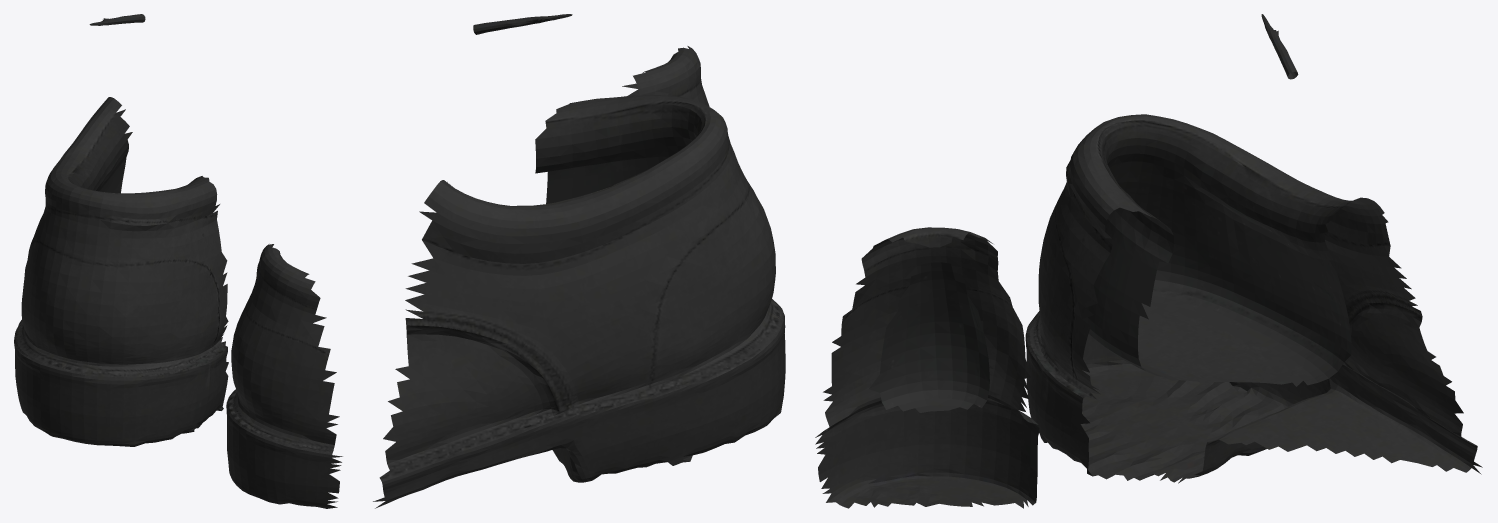
Rendered from leather_shoes_low_cut.glb.
3 renders of one model, left to right at view 1: azimuth 30°, elevation 25°; view 2: azimuth 150°, elevation 25°; view 3: azimuth 270°, elevation 25°, orthographic. The views are drawn at different scales.
Parts seen in each view (by area): view 1: world; view 2: world; view 3: world.
Part boxes in pixels (bbox=[...]): world: bbox=[14, 14, 342, 508]; world: bbox=[373, 14, 785, 508]; world: bbox=[815, 14, 1482, 508].
Size of the model in its own units: 0.0652 by 0.1289 by 0.1719.
Materials: 1 (1 with a texture image).
